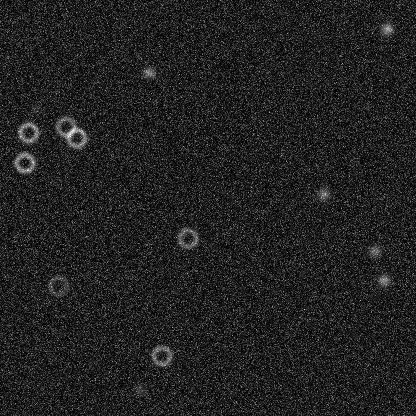Ring: (149, 343, 173, 367), (53, 114, 77, 138), (12, 150, 36, 174), (64, 125, 88, 149), (175, 226, 199, 250), (46, 273, 70, 297), (16, 120, 40, 144)
Spot: (315, 185, 331, 201), (131, 381, 147, 397), (27, 100, 43, 116), (378, 20, 394, 36), (141, 64, 157, 80), (375, 272, 391, 288), (367, 242, 383, 258)
